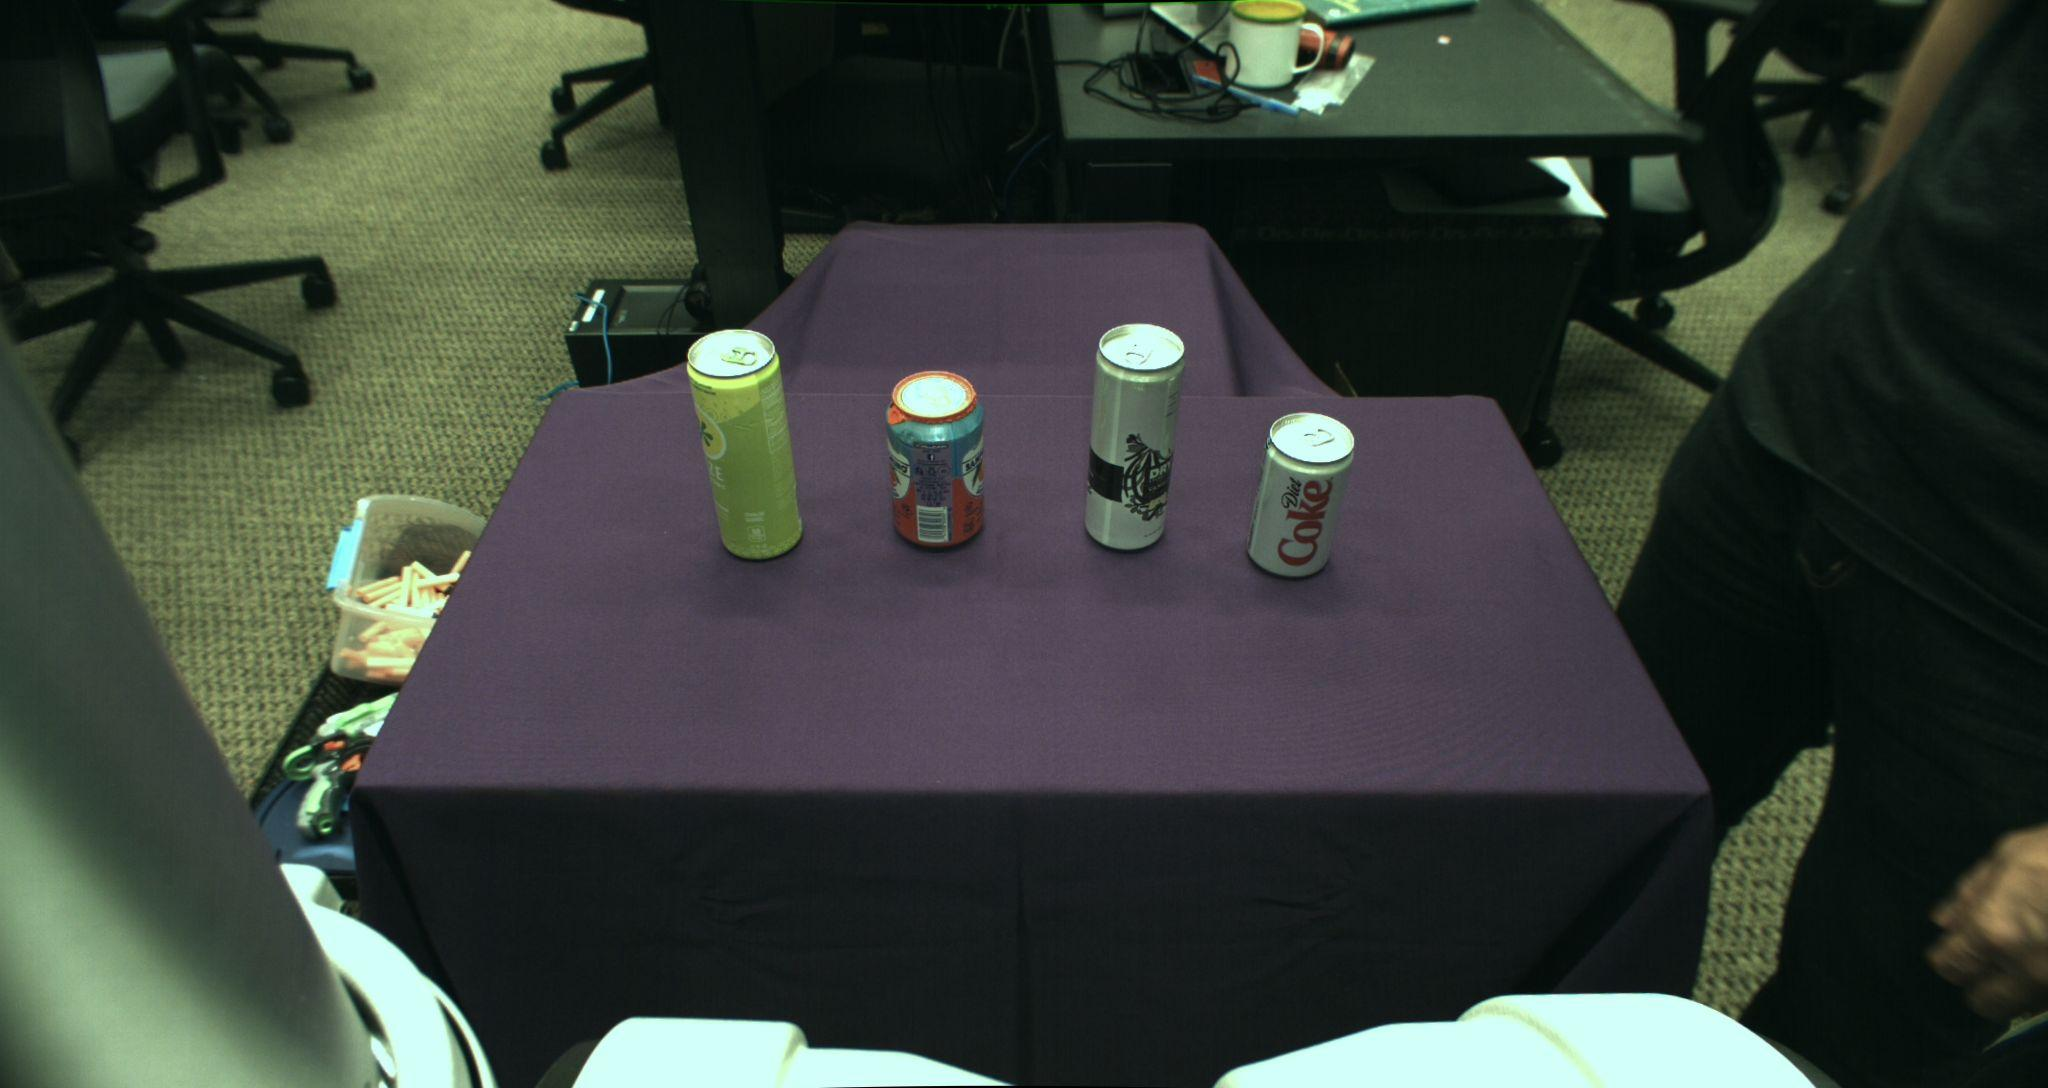can_diet_coke_small: (1245, 411, 1357, 579)
can_dry_sparkling_vanilla_bean: (1085, 321, 1185, 551)
can_izze_fusions_lemon_lime: (685, 329, 805, 562)
can_sanpellegrino_blood_orange: (884, 370, 986, 549)
